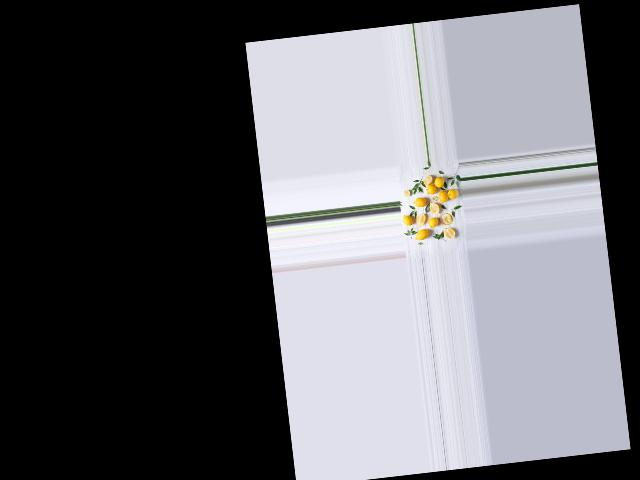lemon: (446, 186, 458, 202)
